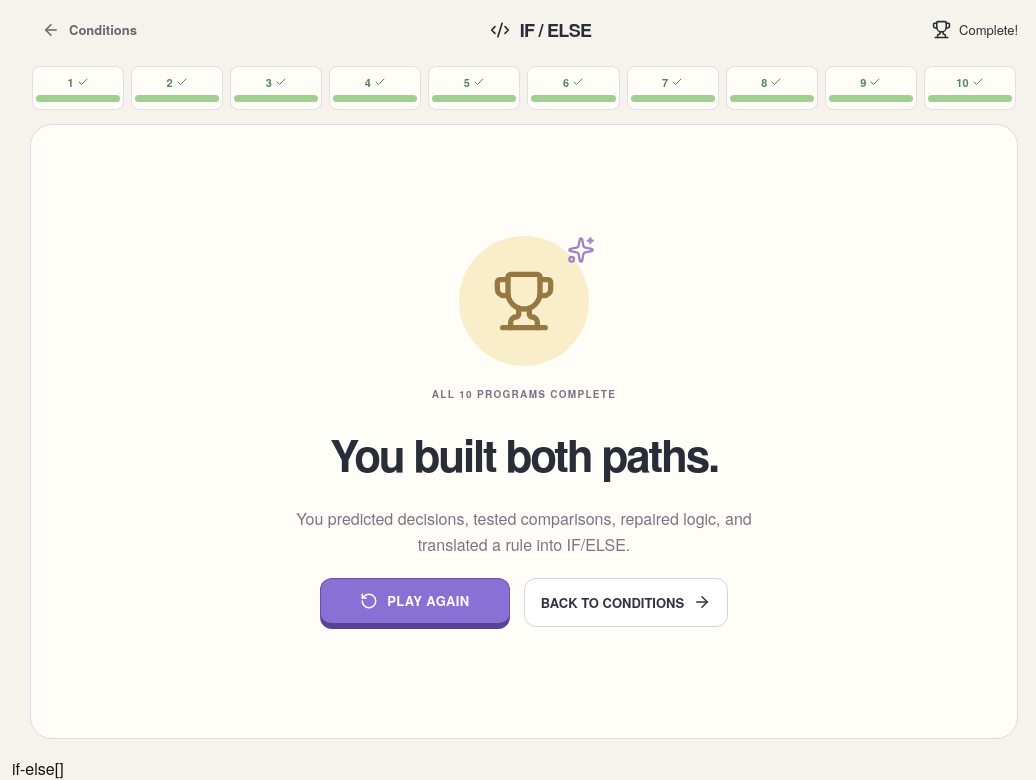
Scenario: IF/ELSE learning progression › opens any passed level directly from the completed activity
(page scrolled)
Expected: the heading "You built both paths." is shown, x1=330 y1=422 x2=718 y2=486
Click the button "7".
click(673, 88)  # box x1=627 y1=66 x2=719 y2=110
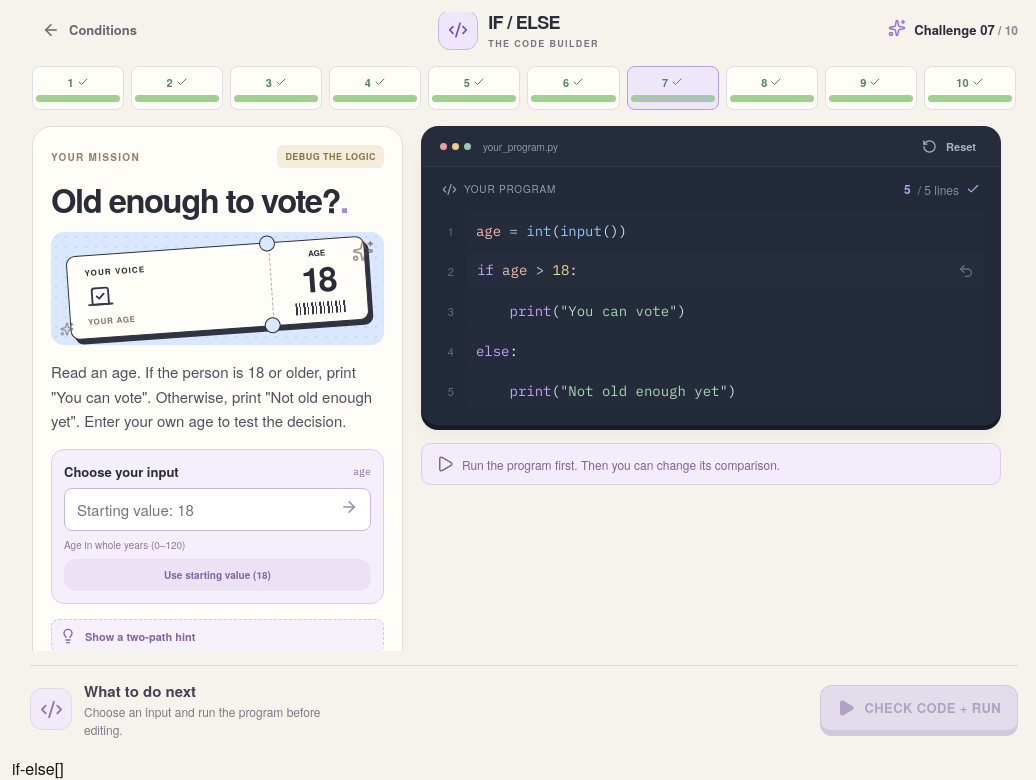
Expected: the text with test id "completed" reads "if-else", x1=12 y1=757 x2=55 y2=779
Expected: the heading "Old enough to vote?." is shown, x1=51 y1=183 x2=384 y2=217
